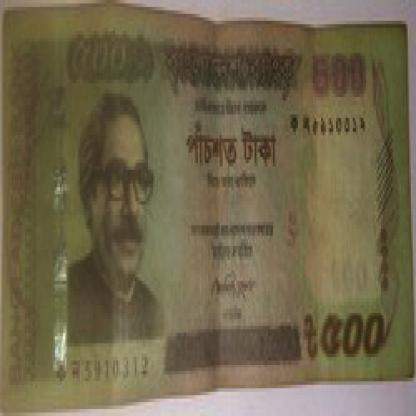500 taka: (64, 31, 142, 90)
currency: (5, 14, 414, 385)
